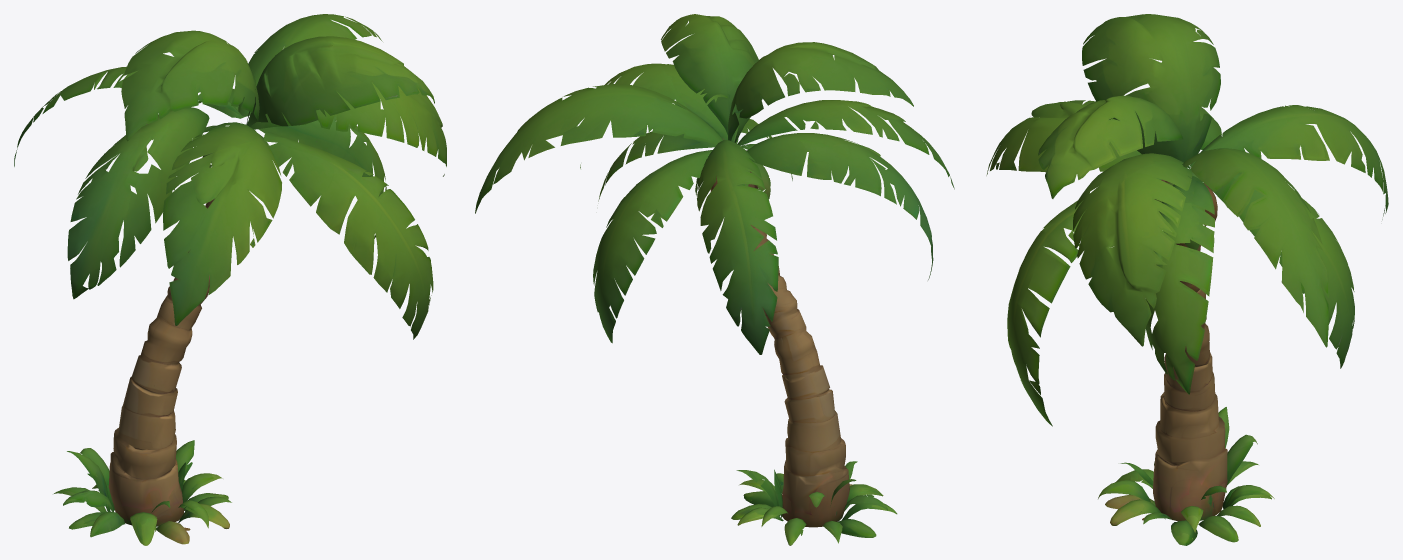
The model's file is palm.glb.
The picture shows the model from 3 angles, left to right: view 1: azimuth 30°, elevation 25°; view 2: azimuth 150°, elevation 25°; view 3: azimuth 270°, elevation 25°; orthographic projection. The views are drawn at different scales.
Visible parts, largest first — view 1: c7734d3d_0189_4b6a_95e9_266289518be3; view 2: c7734d3d_0189_4b6a_95e9_266289518be3; view 3: c7734d3d_0189_4b6a_95e9_266289518be3.
Boxes of the visible parts, x1,y1,x2,y2 form: c7734d3d_0189_4b6a_95e9_266289518be3: (14, 14, 446, 545); c7734d3d_0189_4b6a_95e9_266289518be3: (475, 14, 954, 545); c7734d3d_0189_4b6a_95e9_266289518be3: (986, 14, 1388, 545).
Size of the model in its own units: 3.88 by 4.5 by 3.28.
1 material, 1 textured.
